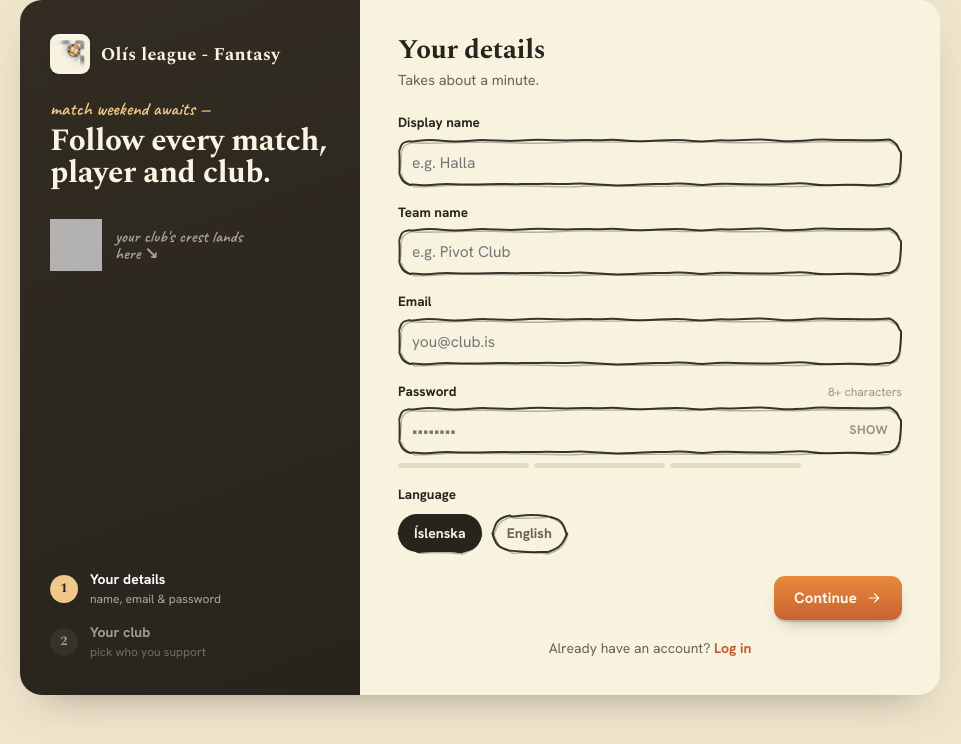
Test: RegisterPage (two-step) › email_taken bounces back to the details step with an email error
This screenshot has width=961, height=744.
In the field labelled "Display name": (650, 162) [398,139,902,186], type "Halla"
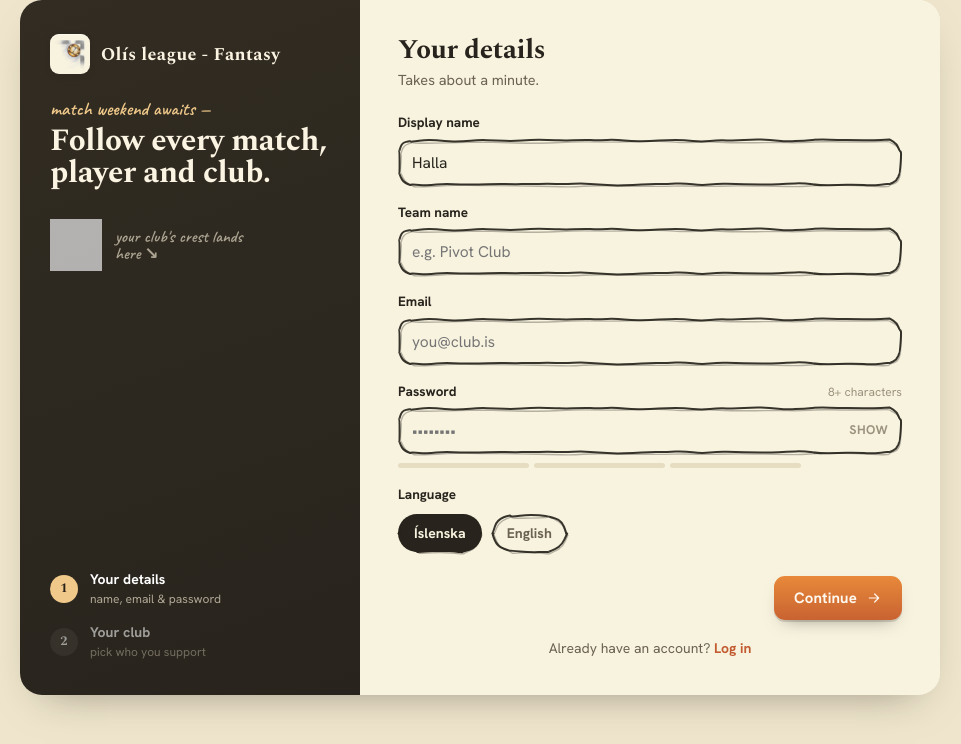
In the field labelled "Team name": (650, 252) [398,228,902,275], type "Pivot Club"
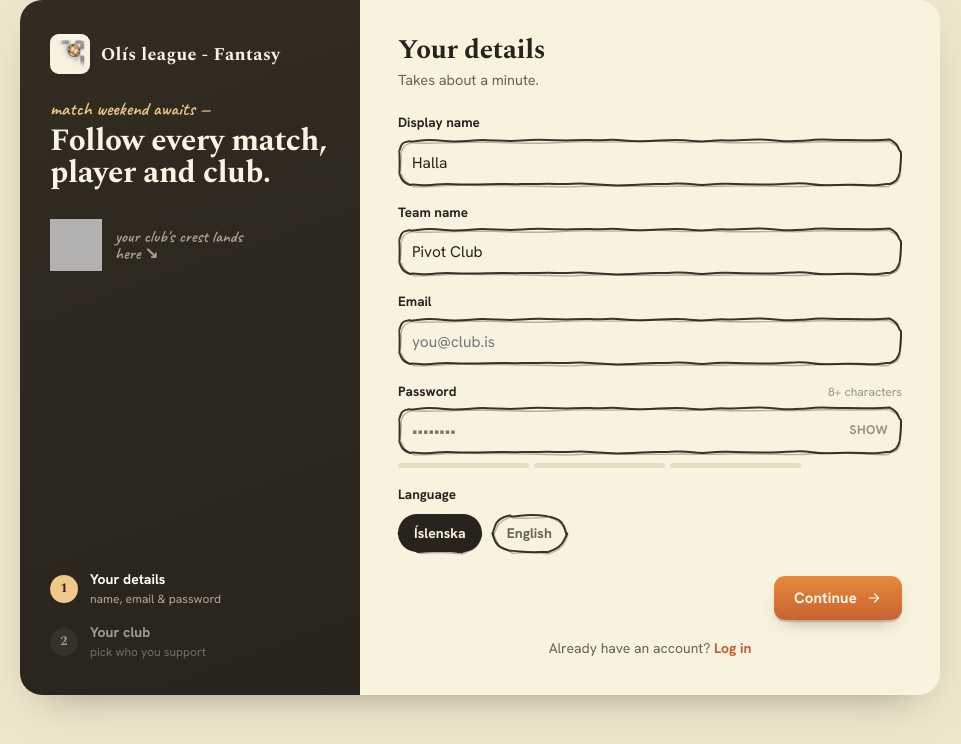
In the field labelled "Email": (650, 341) [398,318,902,365], type "a@b.is"
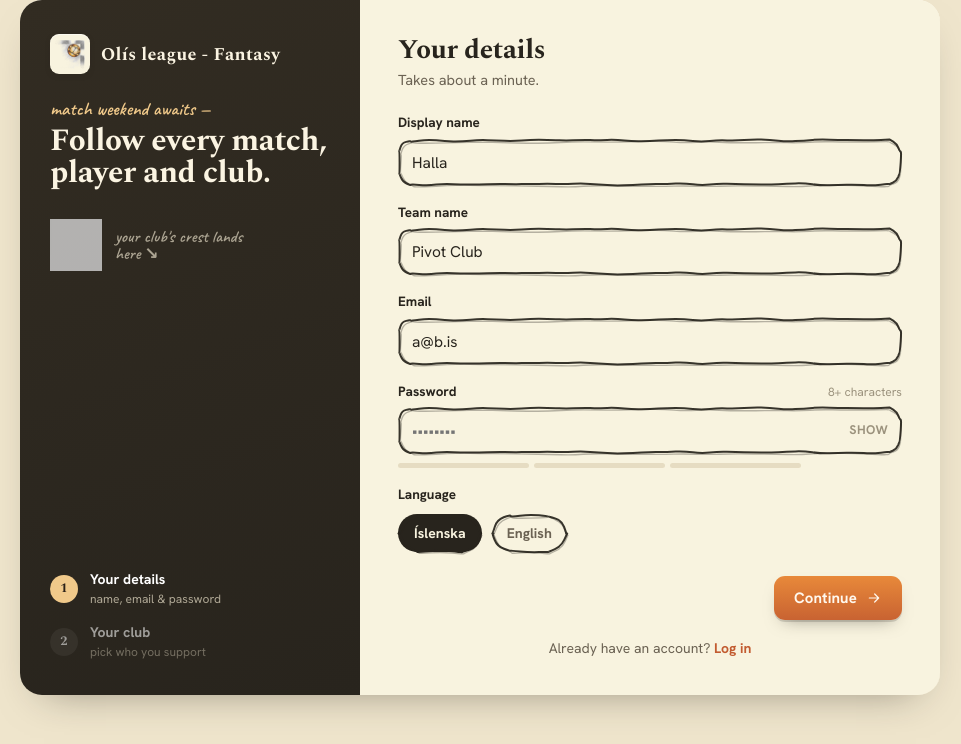
In the password field labelled "Password": (617, 431) [398,407,835,454], type "hunter2hunter2"
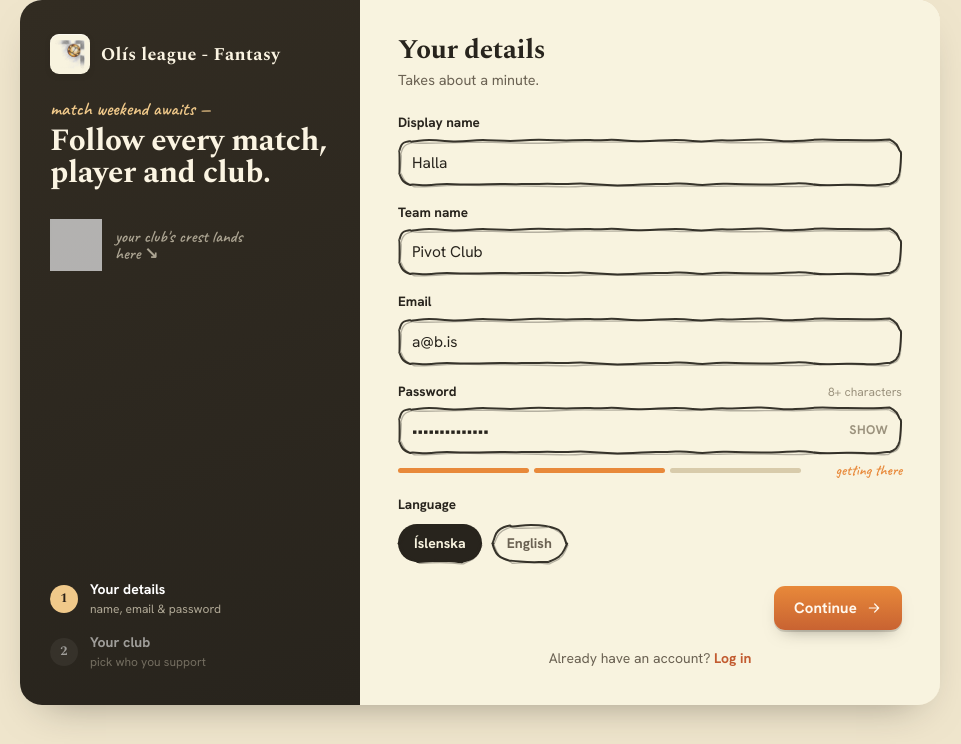
Click the button "Continue": (838, 608) [774,586,902,630]
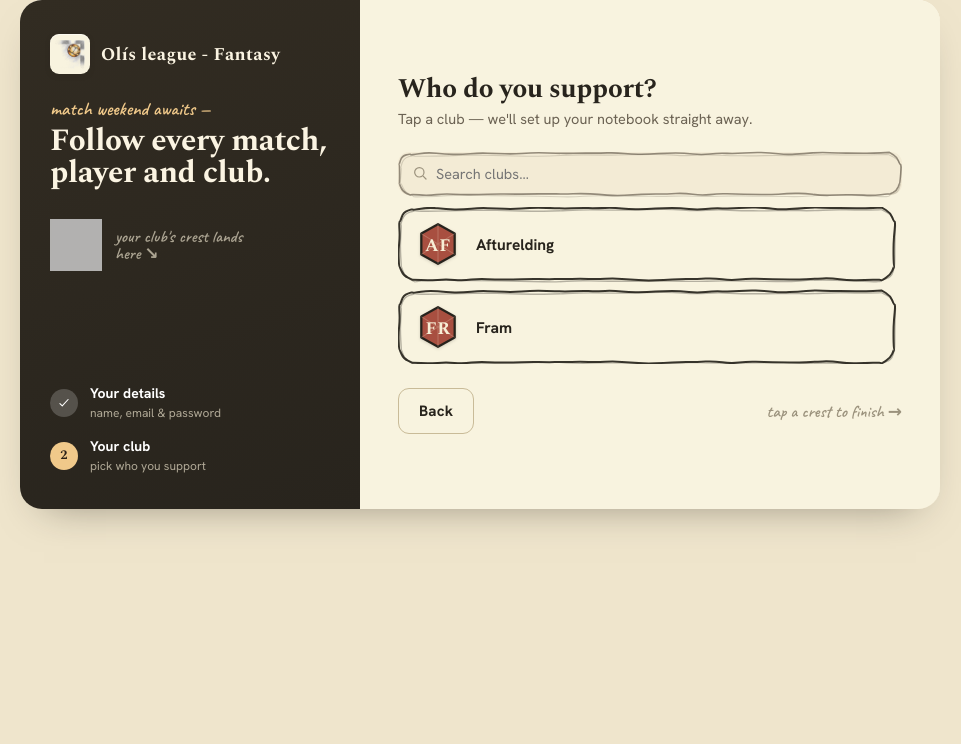
Click the button "AF Afturelding": (647, 244) [398,207,896,281]
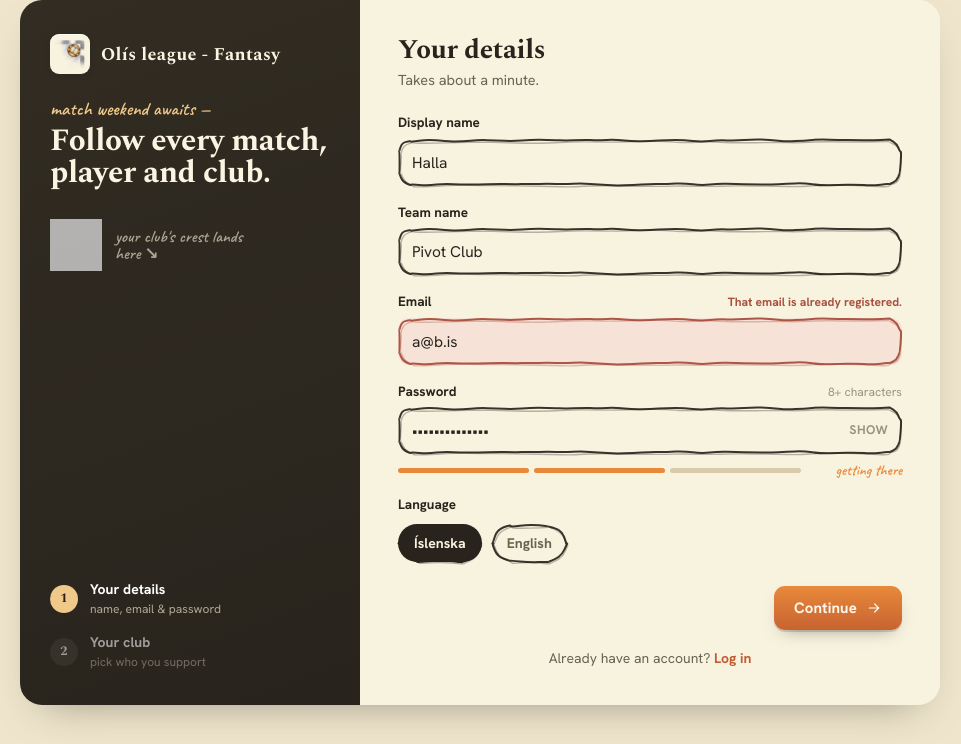
Result: the text "That email is already registered." is shown at [728,293,902,311]
Result: the heading "Your details" is shown at [398,29,545,71]
